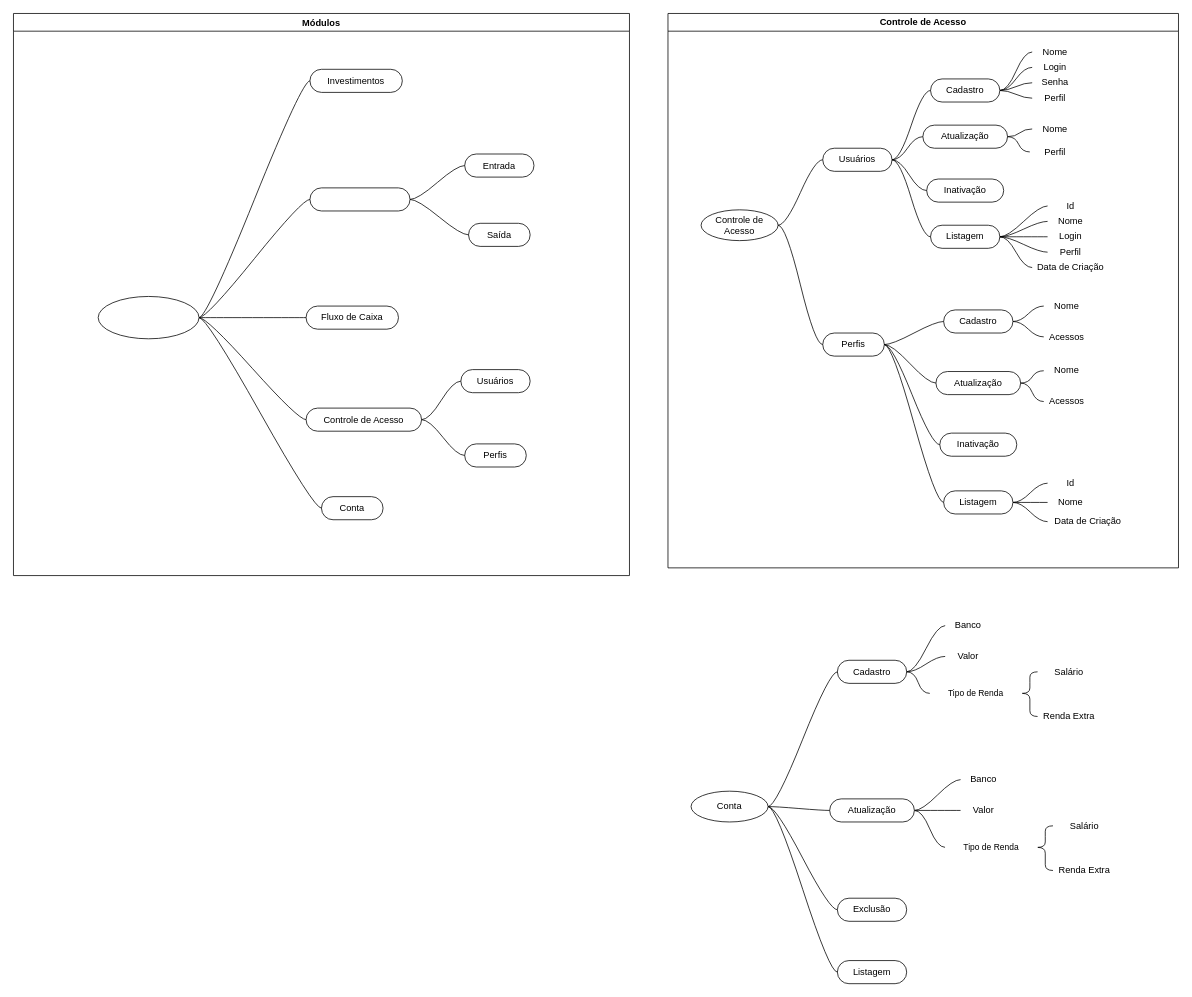
The diagram is 1192 pixels wide and 997 high, and some of its shapes have lost their labels. Here are the shapes that lost their labels. From the top down, the centre of each, then its label:
At point 359,199: "Movimentações".
At point 148,317: "Meu Caixa".
